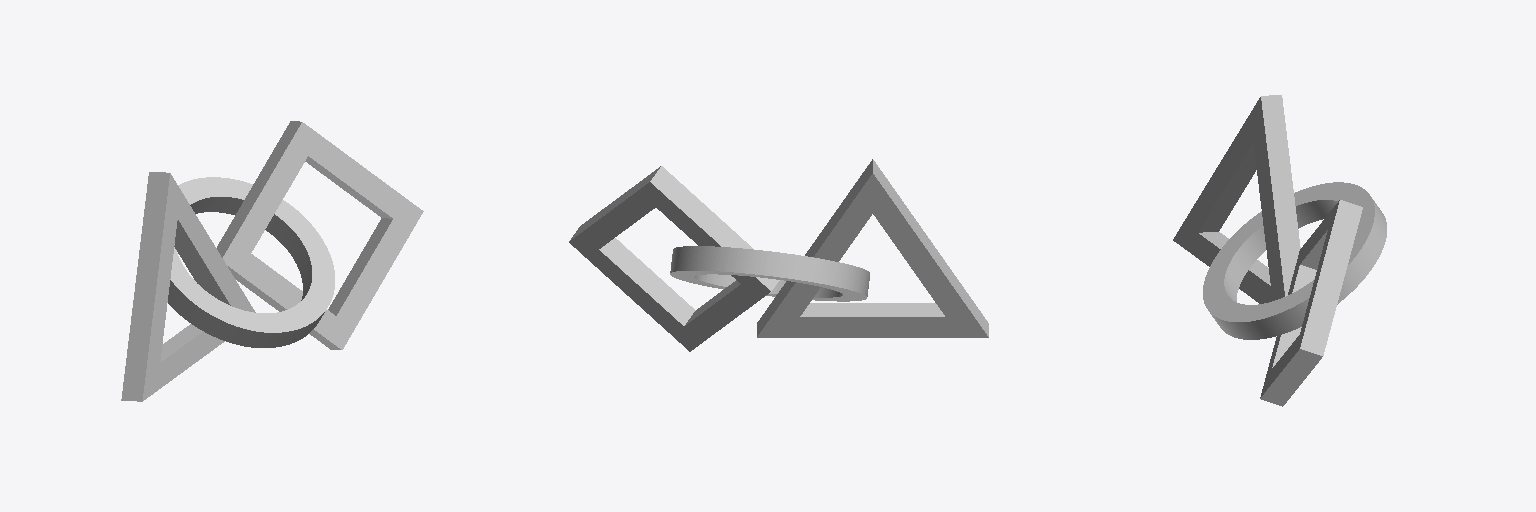
The picture shows the model from 3 angles: view 1: azimuth 30°, elevation 25°; view 2: azimuth 150°, elevation 25°; view 3: azimuth 270°, elevation 25°; orthographic projection.
Parts seen in each view (by area): view 1: Square, Triangle, Circle; view 2: Triangle, Square, Circle; view 3: Triangle, Circle, Square.
Part boxes in pixels (bbox=[...]): Square: bbox=[217, 121, 423, 349]; Triangle: bbox=[121, 172, 255, 401]; Circle: bbox=[168, 177, 334, 347]; Triangle: bbox=[757, 159, 988, 337]; Square: bbox=[569, 166, 779, 351]; Circle: bbox=[670, 246, 869, 301]; Triangle: bbox=[1173, 95, 1300, 303]; Circle: bbox=[1203, 182, 1386, 339]; Square: bbox=[1260, 200, 1362, 406].
Size of the model in its own units: 24.78 by 15.12 by 12.96.